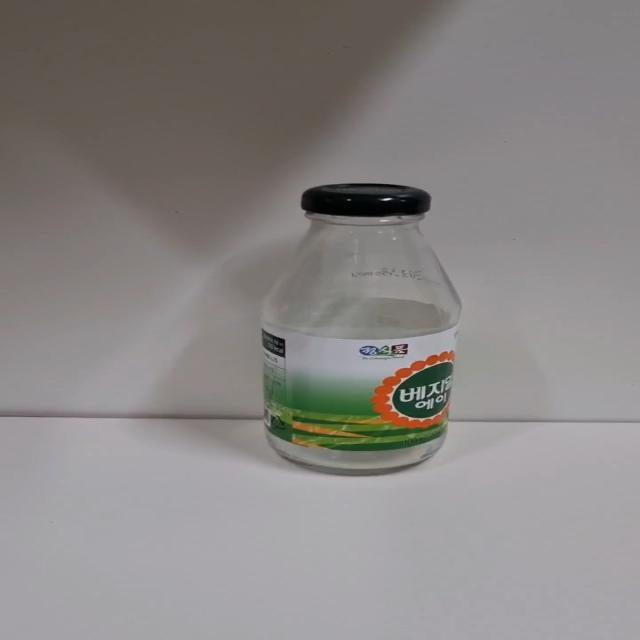Glass: (252, 171, 474, 479)
